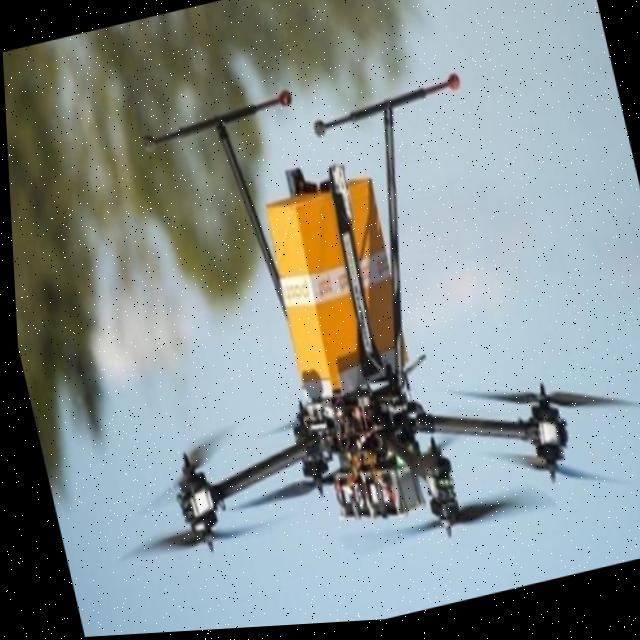drones: (18, 0, 640, 639)
